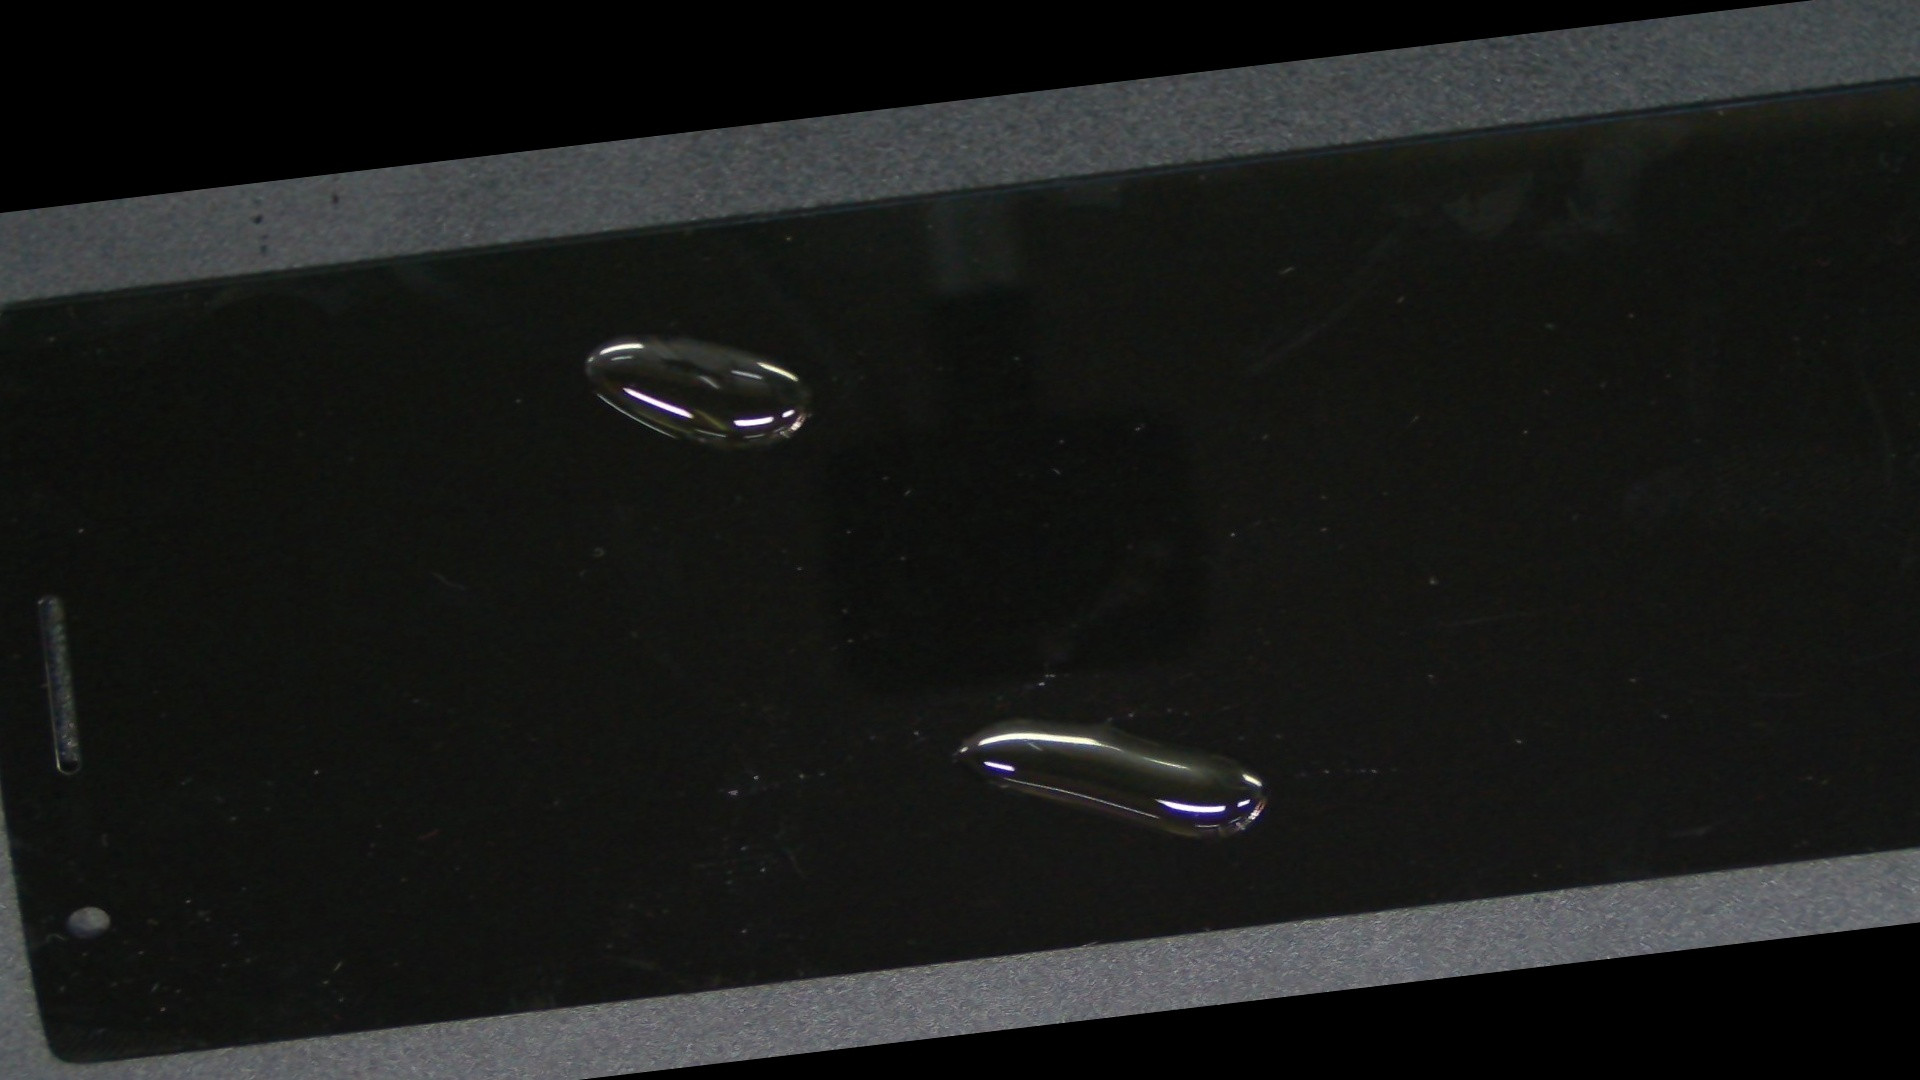oil: (417, 348, 1578, 1080), (225, 195, 1005, 477)
